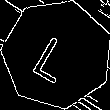L_NE: (31, 25, 83, 83)
